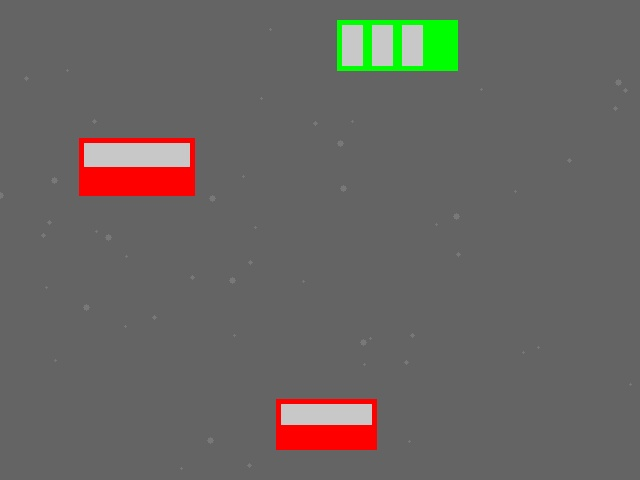bus: (337, 20, 457, 70)
car: (79, 138, 194, 195), (276, 399, 376, 449)
